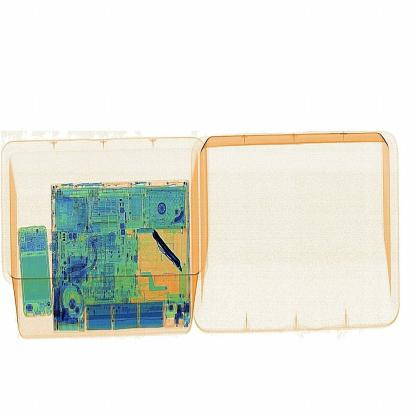knife: (148, 220, 185, 277)
